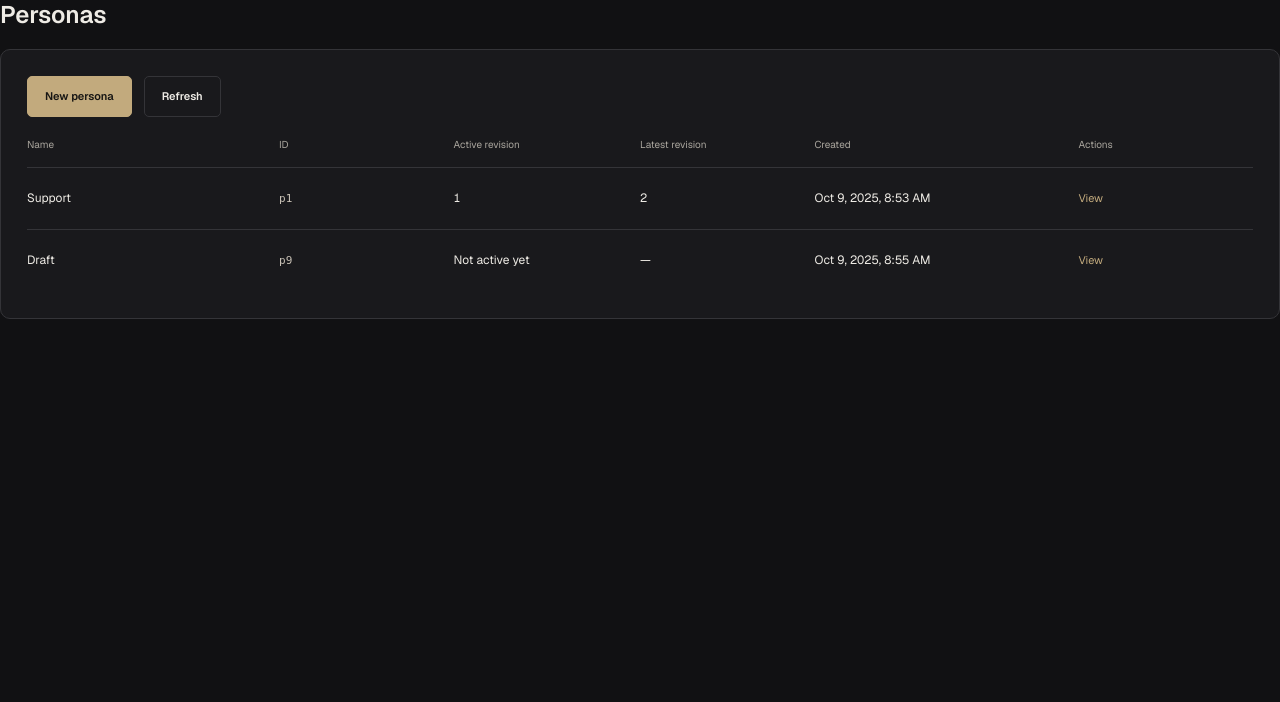
it: admin personas section › tries two revisions side by side and shows per-revision errors
Click the button with aria-label "View Support".
click(1091, 198)  # box x1=1078 y1=186 x2=1103 y2=211
(page scrolled)
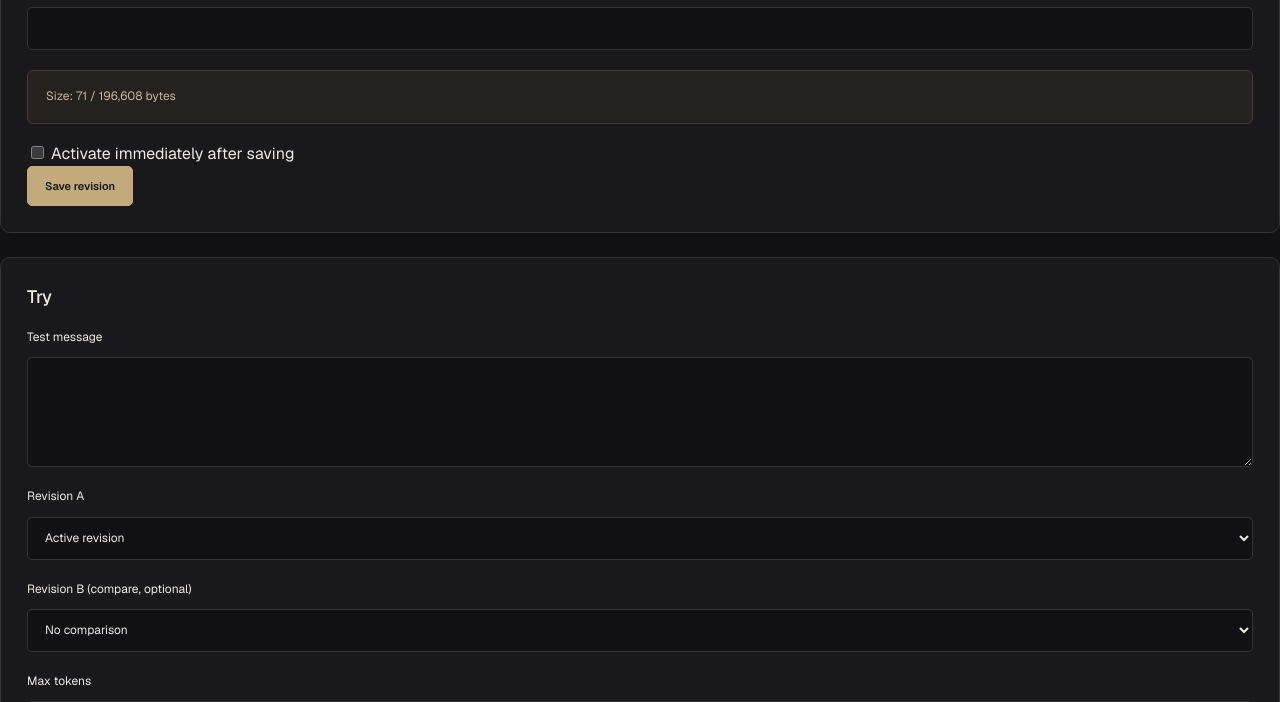
Result: the text "Revision A" is shown at x1=27 y1=488 x2=1253 y2=560
Type "price?" into the text box labelled "Test message".
click(640, 412); type("price?")  # box x1=27 y1=358 x2=1253 y2=468
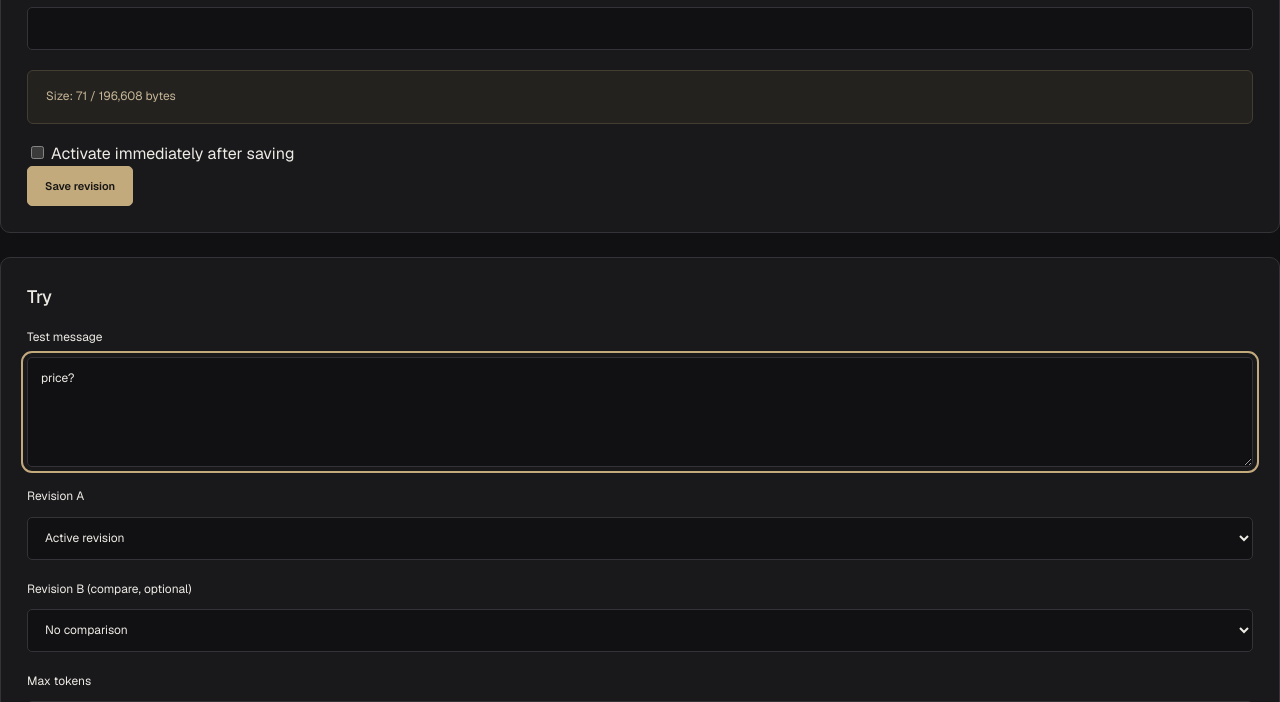
Select "Revision 1" in the dropdown labelled "Revision B (compare, optional)" at (640, 630), box x1=27 y1=609 x2=1253 y2=652
(page scrolled)
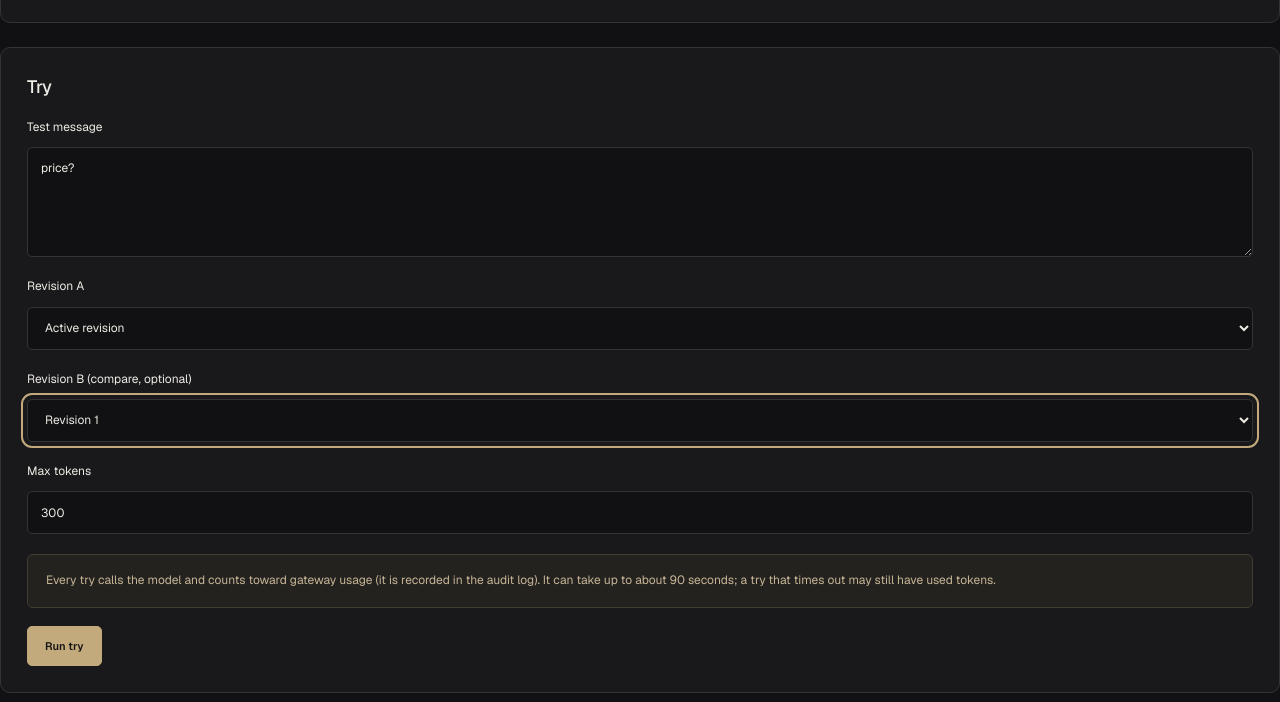
Click the button "Run try".
click(64, 646)  # box x1=27 y1=626 x2=102 y2=666
(page scrolled)
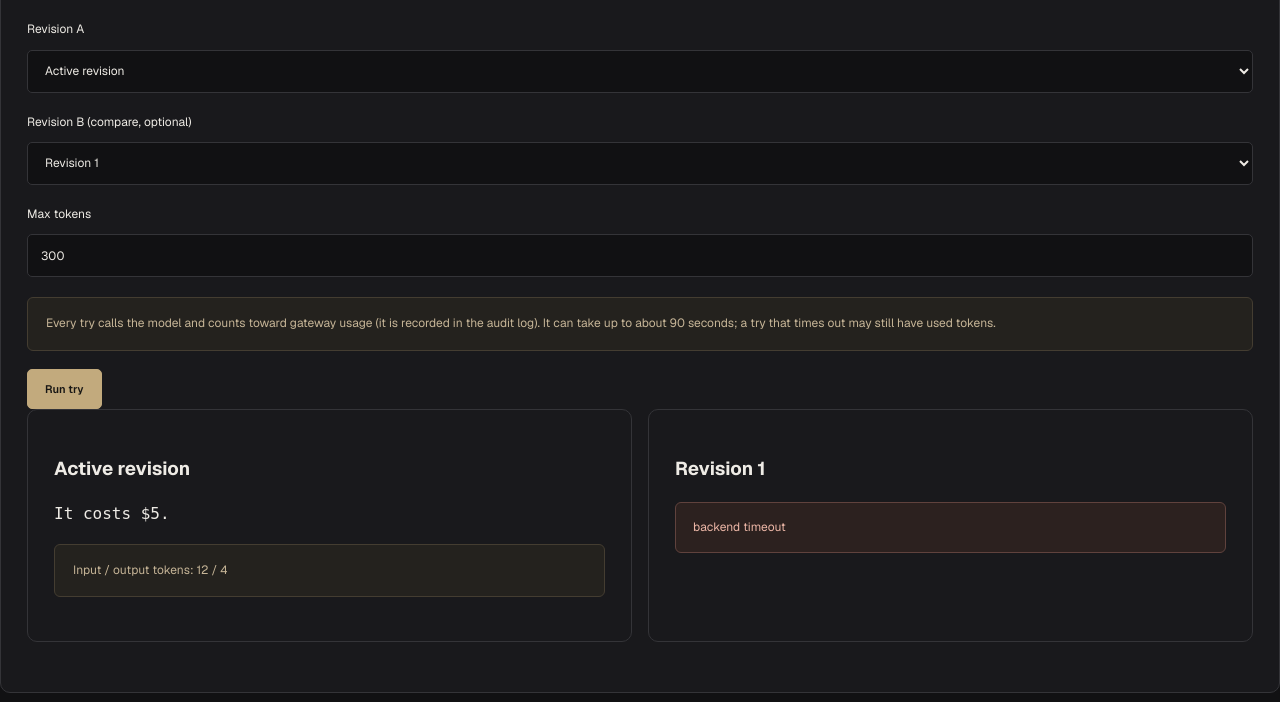
Result: the text "It costs $5." is shown at x1=54 y1=504 x2=170 y2=523
Result: the text "backend timeout" is shown at x1=675 y1=502 x2=1226 y2=553
